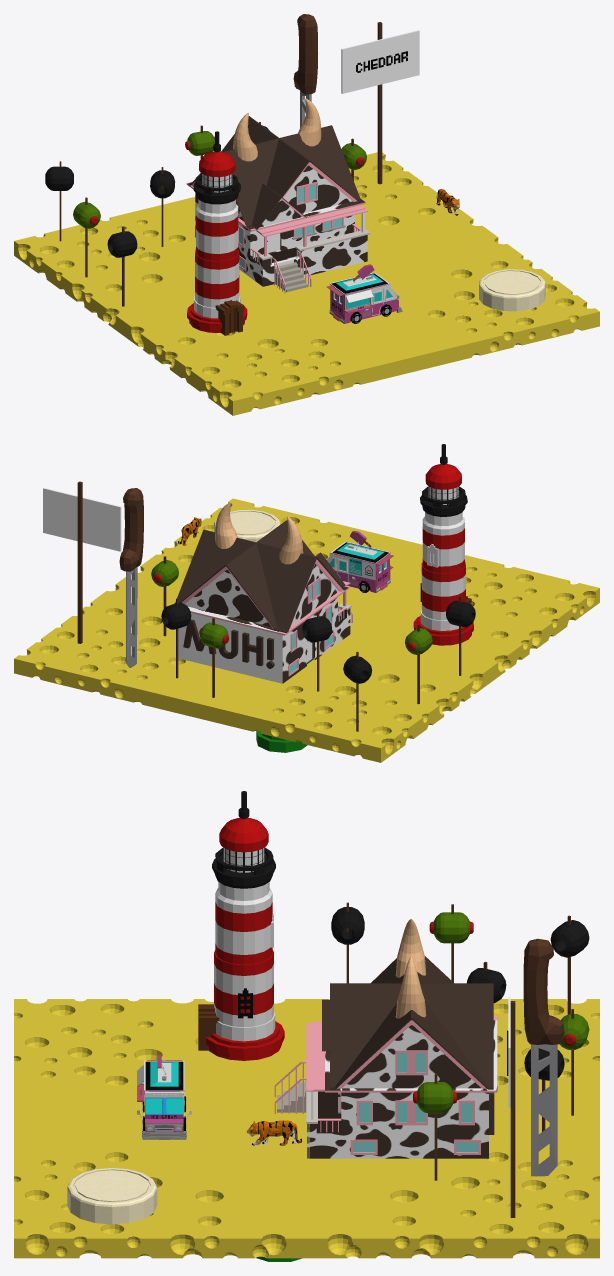
The picture shows the model from 3 angles, top to bottom: view 1: azimuth 30°, elevation 25°; view 2: azimuth 150°, elevation 25°; view 3: azimuth 270°, elevation 25°; orthographic projection. The views are drawn at different scales.
Parts seen in each view (by area): view 1: Cube.022, Cube.1242, OBJRANDOM_LIGHTHOUSE, Cube.023, VEHICLES_ICE_CREAM_TRUCK, Cylinder.016, Cube.024, Sphere.017, Sphere.016, Sphere.020, Sphere.018, Sphere.022 (+1 smaller); view 2: Cube.022, Cube.1242, OBJRANDOM_LIGHTHOUSE, Cube.023, Cube.024, VEHICLES_ICE_CREAM_TRUCK, Cylinder.016, Sphere.021, Sphere.020, Sphere.017, Sphere.016, Sphere.022 (+3 smaller); view 3: Cube.022, Cube.1242, OBJRANDOM_LIGHTHOUSE, Cube.024, Cylinder.016, VEHICLES_ICE_CREAM_TRUCK, Cube.023, Sphere.019, Sphere.016, Sphere.018, Sphere.017, Sphere.022 (+3 smaller).
Part boxes in pixels (box(x1,y1,x2,y2)): Cube.022: box(14, 152, 599, 415); Cube.1242: box(186, 98, 370, 293); OBJRANDOM_LIGHTHOUSE: box(187, 131, 247, 335); Cube.023: box(341, 22, 419, 184); VEHICLES_ICE_CREAM_TRUCK: box(327, 264, 402, 323); Cylinder.016: box(479, 269, 545, 311); Cube.024: box(293, 14, 317, 127); Sphere.017: box(107, 226, 137, 306); Sphere.016: box(45, 161, 73, 241); Sphere.020: box(150, 167, 175, 246); Sphere.018: box(73, 197, 100, 277); Sphere.022: box(185, 125, 214, 158); Cube.022: box(14, 498, 599, 762); Cube.1242: box(174, 502, 352, 683); OBJRANDOM_LIGHTHOUSE: box(413, 444, 473, 645); Cube.023: box(43, 481, 121, 643); Cube.024: box(119, 488, 143, 667); VEHICLES_ICE_CREAM_TRUCK: box(327, 530, 393, 592); Cylinder.016: box(214, 509, 280, 542); Sphere.021: box(161, 598, 191, 678); Sphere.020: box(302, 611, 331, 691); Sphere.017: box(446, 596, 475, 675); Sphere.016: box(343, 652, 372, 731); Sphere.022: box(199, 618, 229, 697); Cube.022: box(14, 999, 599, 1258); Cube.1242: box(274, 918, 497, 1158); OBJRANDOM_LIGHTHOUSE: box(198, 791, 284, 1060); Cube.024: box(523, 938, 564, 1176); Cylinder.016: box(67, 1167, 157, 1224); VEHICLES_ICE_CREAM_TRUCK: box(137, 1054, 191, 1139); Cube.023: box(507, 997, 515, 1217); Sphere.019: box(413, 1074, 456, 1180); Sphere.016: box(550, 915, 589, 1014); Sphere.018: box(429, 904, 473, 982); Sphere.017: box(331, 902, 364, 983); Sphere.022: box(560, 1009, 589, 1115).
Size of the model in its own units: 3917 by 2715 by 4000.
51 materials, 3 textured.
